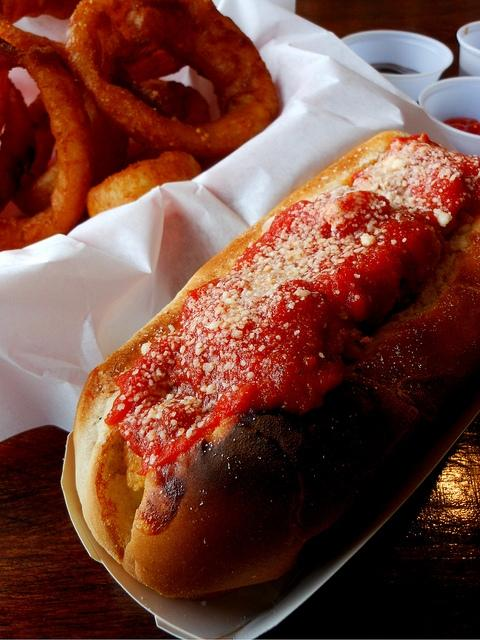onion: (67, 1, 278, 167), (0, 37, 96, 251), (11, 82, 130, 216), (122, 81, 210, 170), (85, 151, 202, 217), (0, 74, 33, 214), (0, 0, 80, 56), (29, 112, 54, 180), (28, 92, 48, 125)
